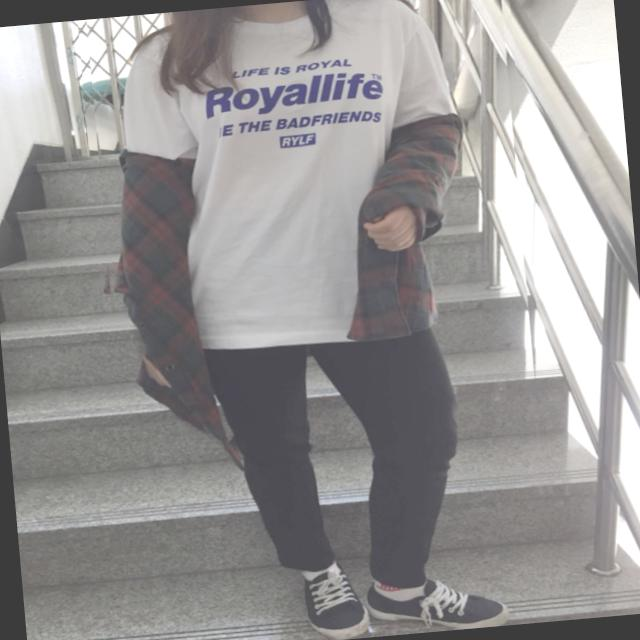shortsleeve: (108, 0, 482, 382)
slacks: (203, 322, 474, 598)
